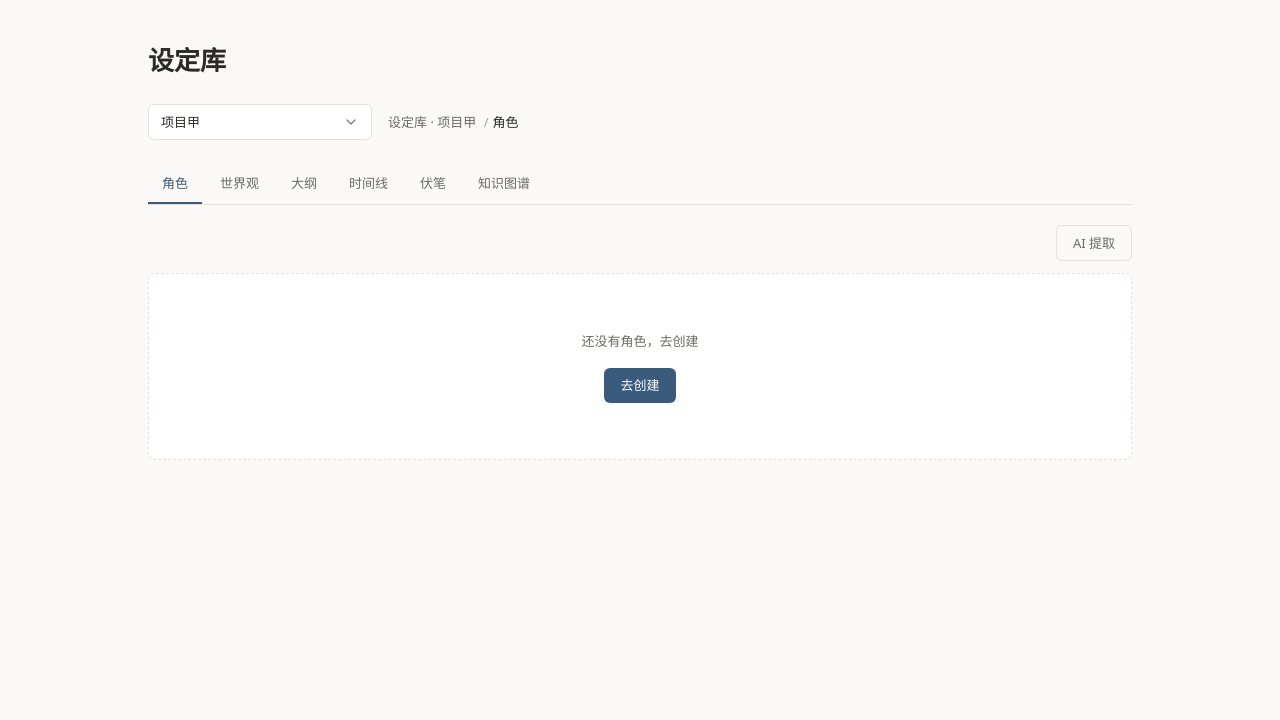
Test case: #676 大纲关联章节选择器（解除 D9 占位） › T676-1 点「关联章节」→ 打开章节选择弹层 → 选中 → PATCH /outlines/c1 {chapter_id} → 树内显示 📎 徽标
Click the tab "大纲": (304,184) x1=277 y1=164 x2=331 y2=204
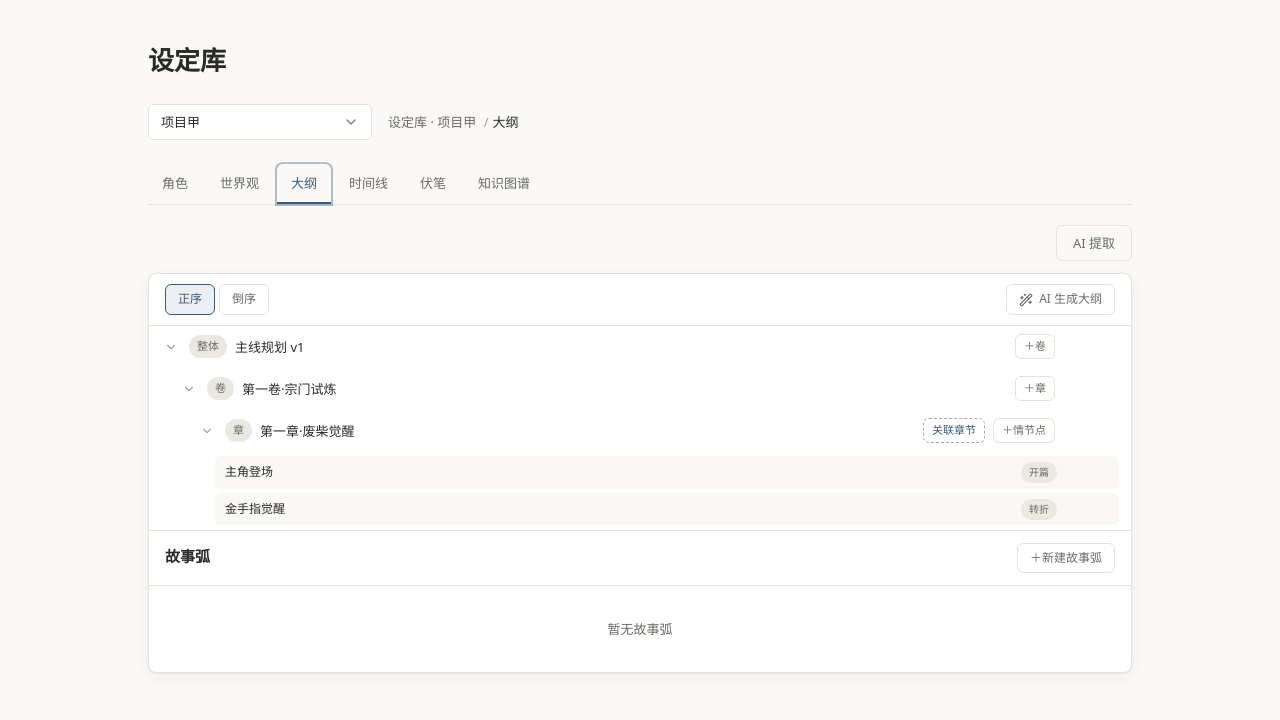
Check: the element with test id "outline-tree" is shown, box x1=149 y1=326 x2=1131 y2=530
Click the button with test id "outline-chapter-link-c1": (954,431) x1=923 y1=418 x2=985 y2=443
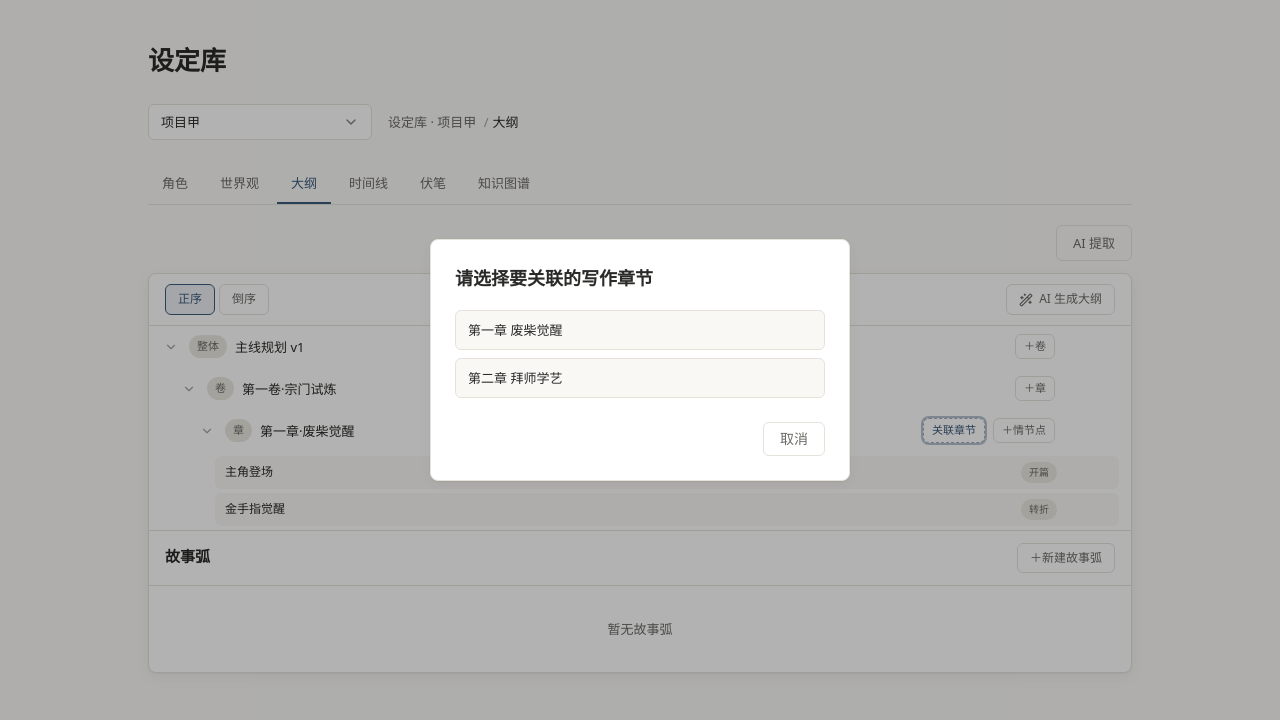
Check: the button with test id "chapter-link-option-ch1" is shown
Check: the button with test id "chapter-link-option-ch2" is shown, box x1=455 y1=358 x2=825 y2=398
Click the button with test id "chapter-link-option-ch1": (515,330) x1=455 y1=310 x2=825 y2=350
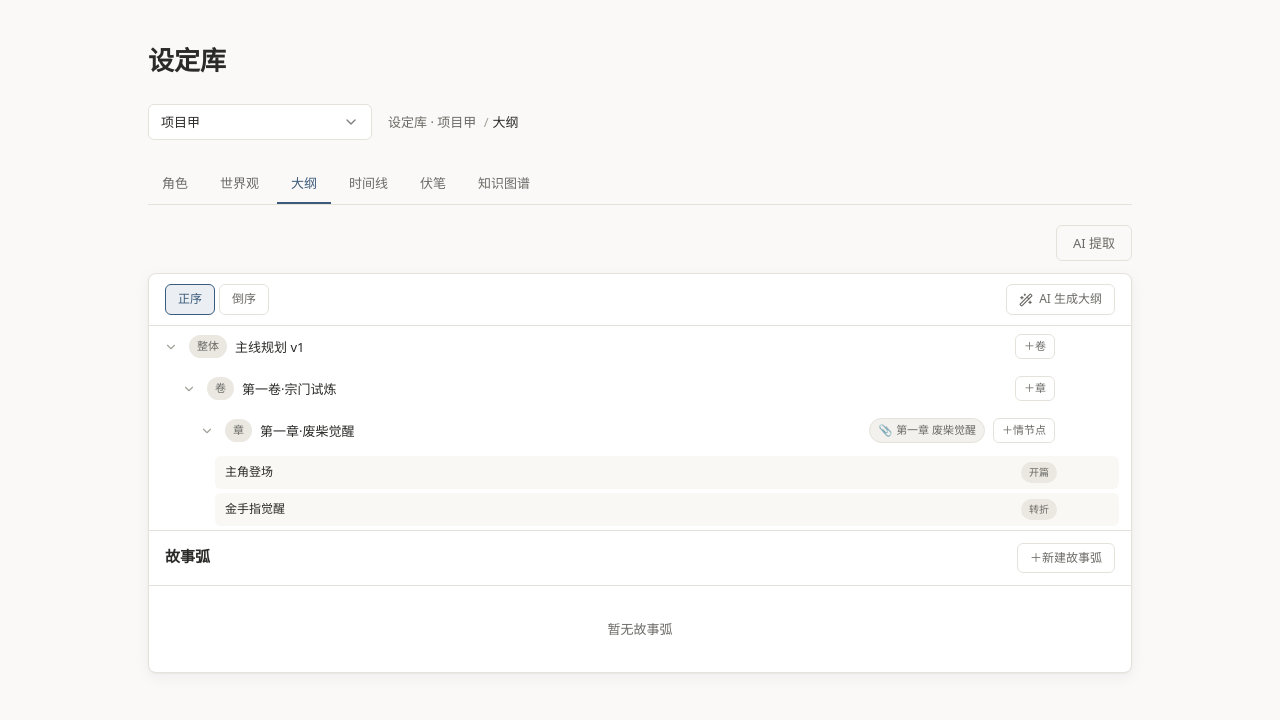
Check: the text "第一章 废柴觉醒" is shown, box x1=896 y1=422 x2=976 y2=437
Check: the button with test id "outline-chapter-link-c1" is gone
